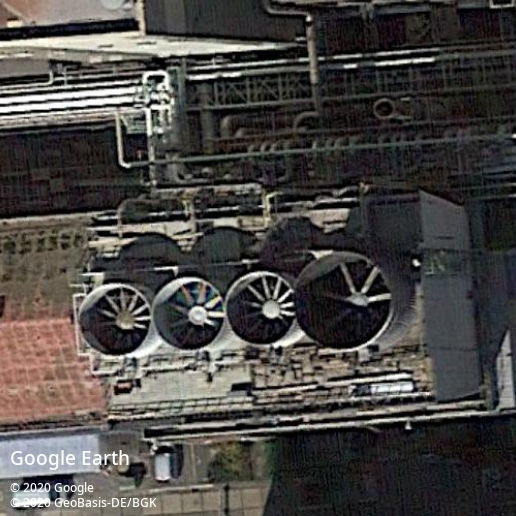Vent: (297, 251, 393, 351), (77, 282, 152, 358), (153, 276, 226, 351), (226, 271, 296, 345)
